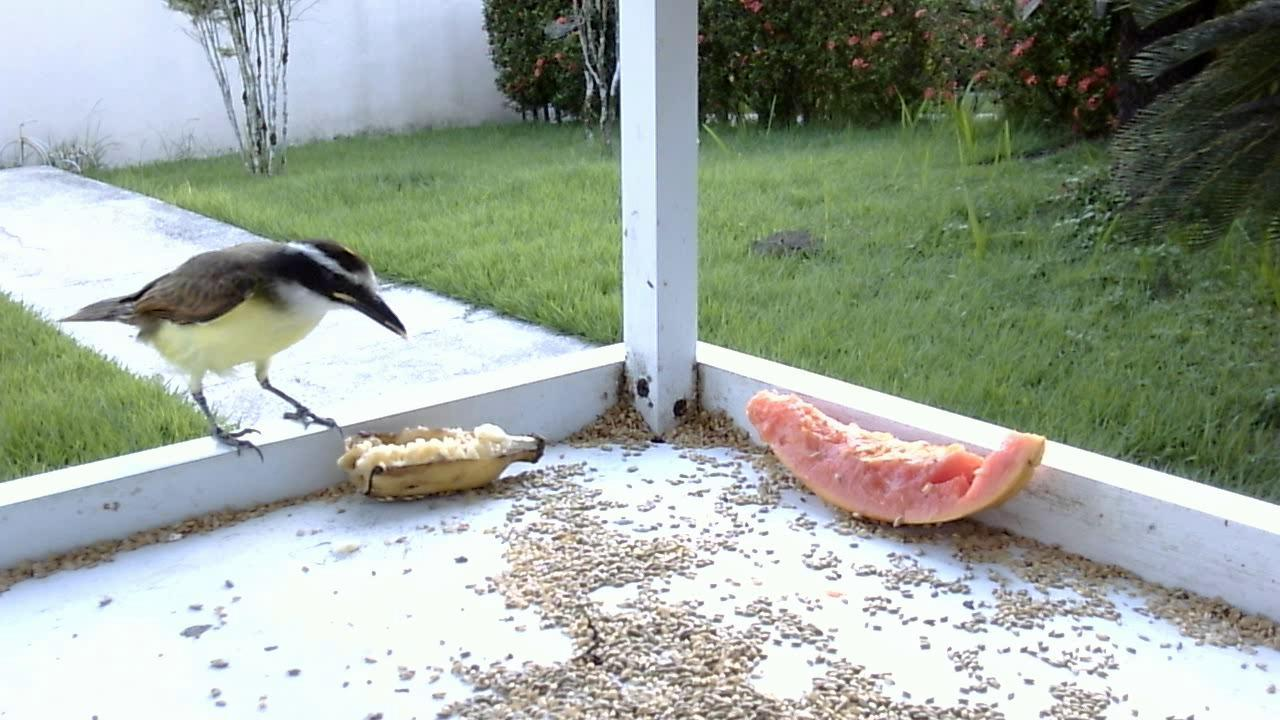bem_te_vi: (47, 221, 415, 472)
